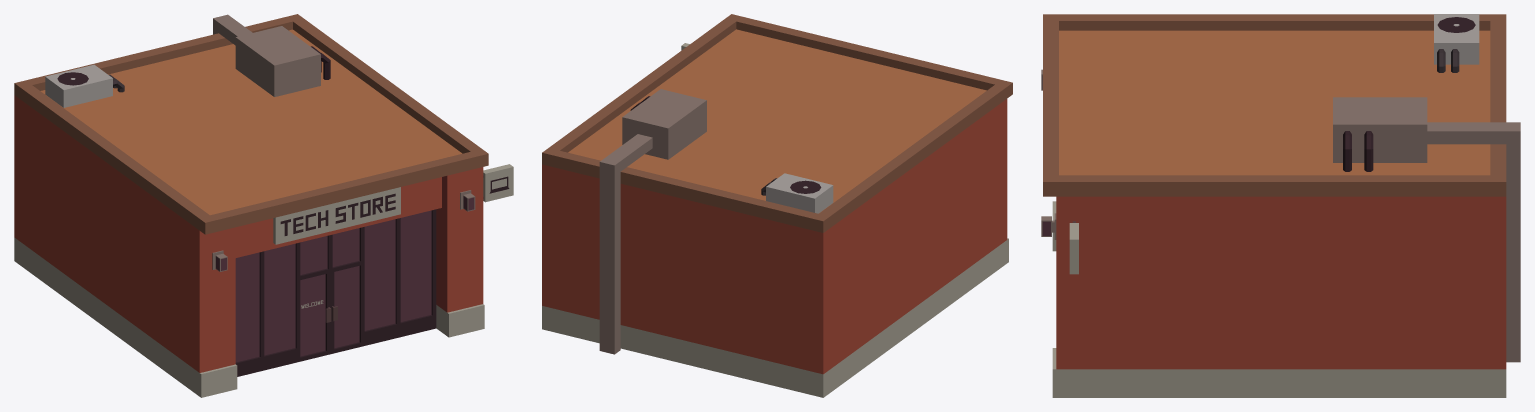
File: Building_6.fbx
3 views of the same model, side by side, from view 1: azimuth 30°, elevation 25°; view 2: azimuth 150°, elevation 25°; view 3: azimuth 270°, elevation 25° (orthographic). The views are drawn at different scales.
Parts seen in each view (by area): view 1: Building_6, Building_6LP; view 2: Building_6; view 3: Building_6.
Boxes of the visible parts, x1,y1,x2,y2 form: Building_6: [14, 14, 513, 397]; Building_6LP: [216, 176, 509, 362]; Building_6: [542, 14, 1012, 397]; Building_6: [1041, 14, 1520, 397].
Size of the model in its own units: 10.56 by 6.43 by 11.31.
